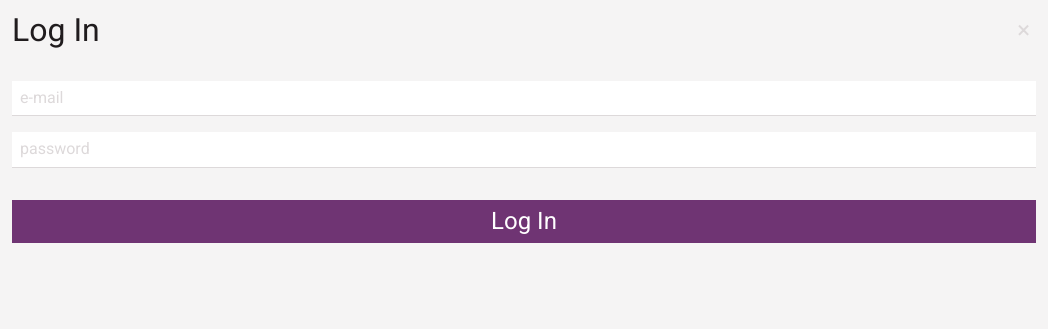
Test: <LoginForm/> › Should display error if email is invalid
The image size is (1048, 329).
Type "test" into the field with placeholder "e-mail".
click(524, 98); type("test")  # box top-left (12, 81), bottom-right (1036, 116)
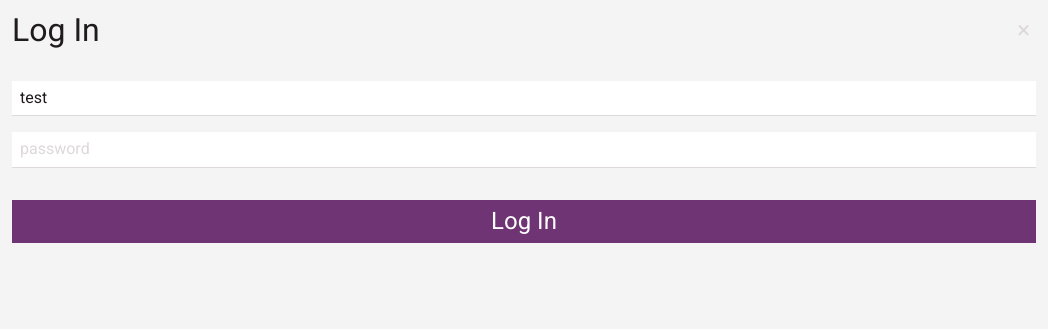
Click the button with test id "submitButton".
click(524, 221)  # box top-left (12, 200), bottom-right (1036, 243)
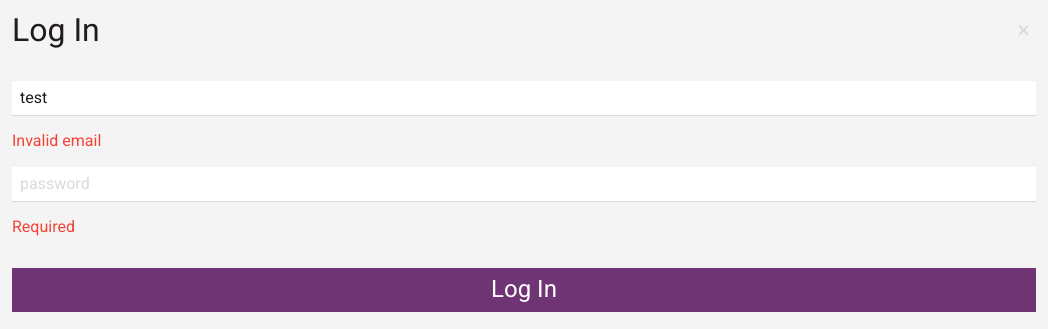
Result: the text "Required" is shown once at top-left (12, 217), bottom-right (75, 236)
Result: the text "Invalid email" is shown at top-left (12, 131), bottom-right (101, 150)
